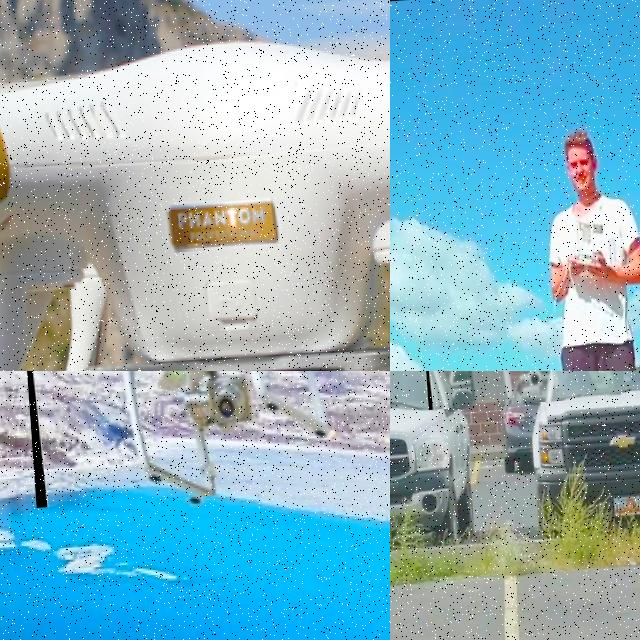drone: (0, 0, 390, 371), (15, 371, 390, 507), (419, 371, 620, 409)
